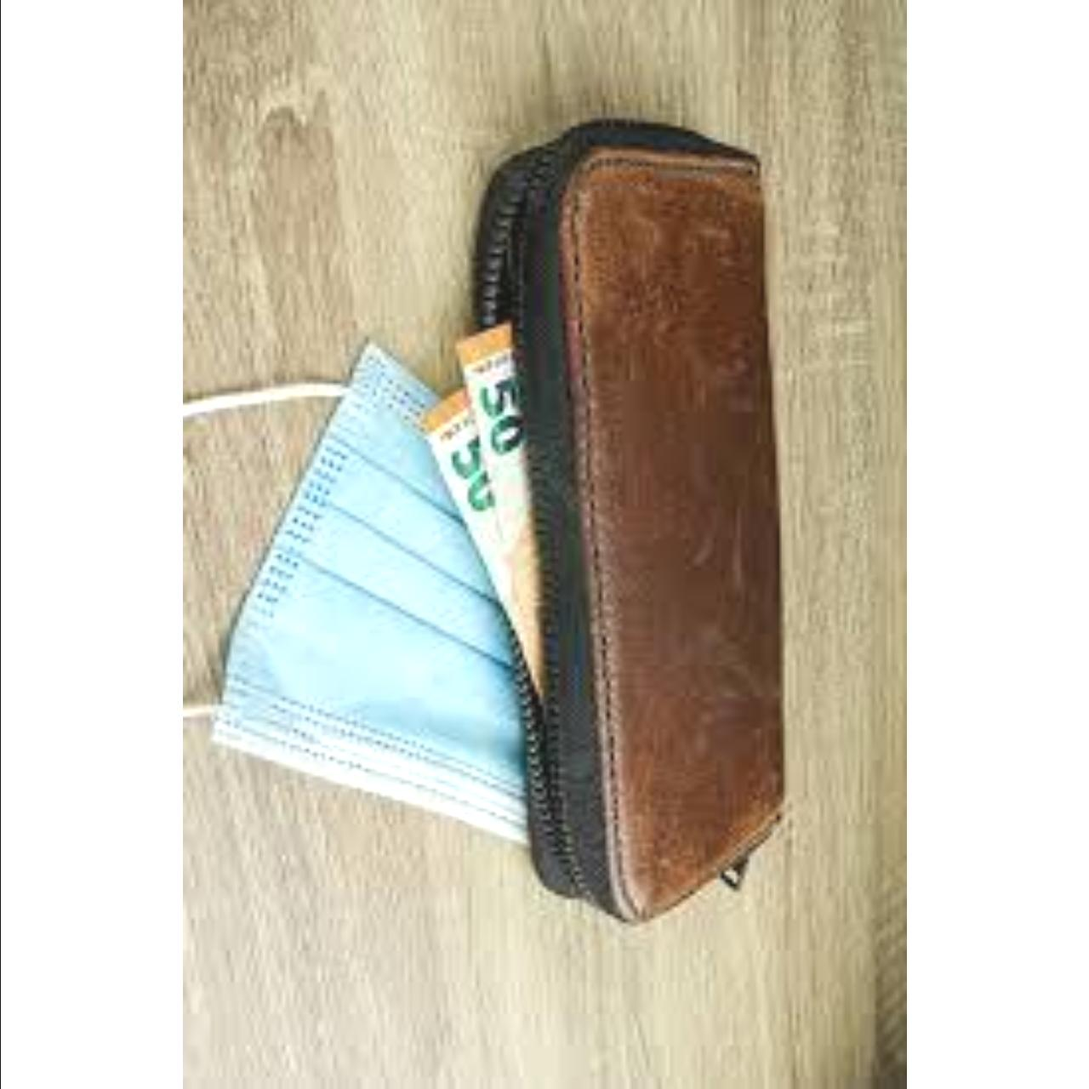wallet: (493, 140, 793, 916)
